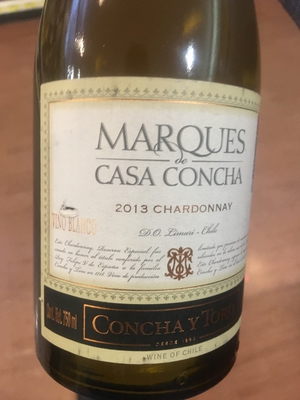marques de casa concha chardonnay: (33, 10, 258, 400)
